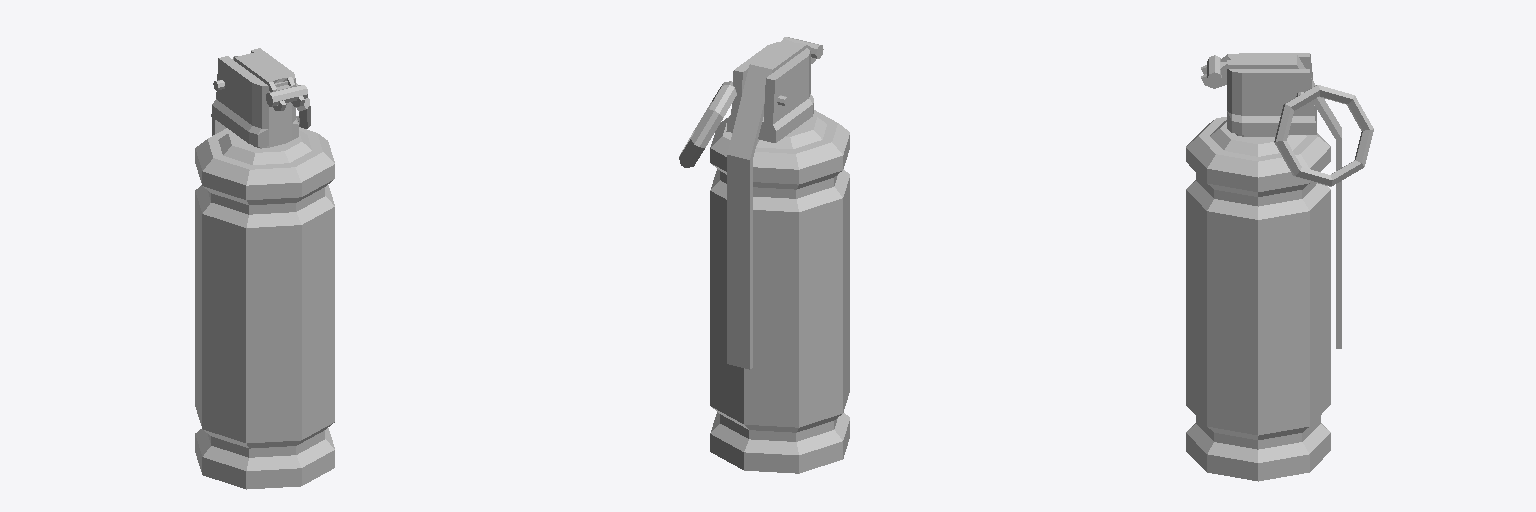
The model's file is Flashbang_West.obj.
The picture shows the model from 3 angles: view 1: azimuth 30°, elevation 25°; view 2: azimuth 150°, elevation 25°; view 3: azimuth 270°, elevation 25°; orthographic projection.
Parts seen in each view (by area): view 1: Flashbang_West; view 2: Flashbang_West; view 3: Flashbang_West.
Boxes of the visible parts, x1,y1,x2,y2 form: Flashbang_West: [195, 48, 334, 489]; Flashbang_West: [679, 37, 849, 473]; Flashbang_West: [1186, 53, 1373, 481].
Size of the model in its own units: 0.0512 by 0.1487 by 0.0649.